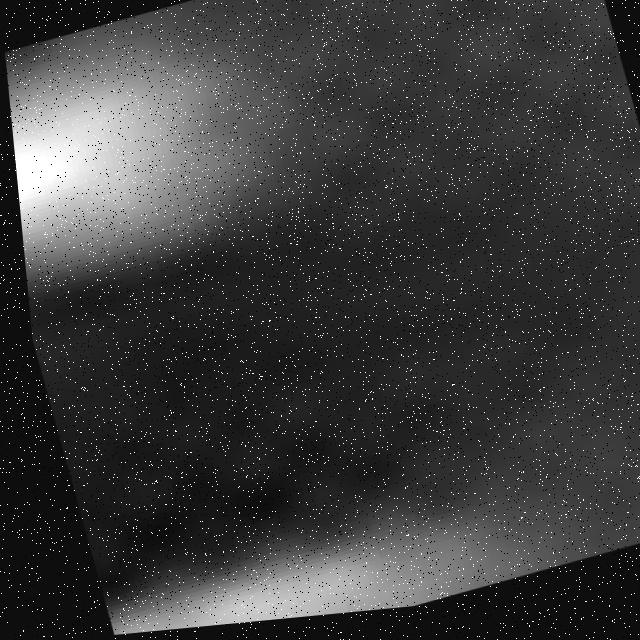person: (2, 1, 270, 301)
